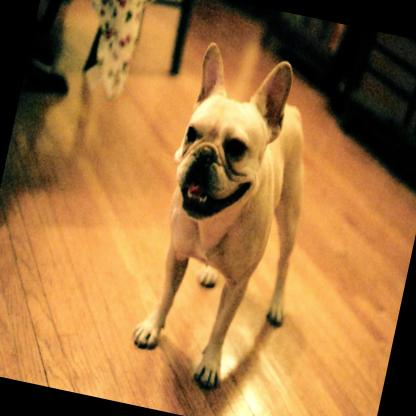French_bulldog: (123, 37, 336, 401)
